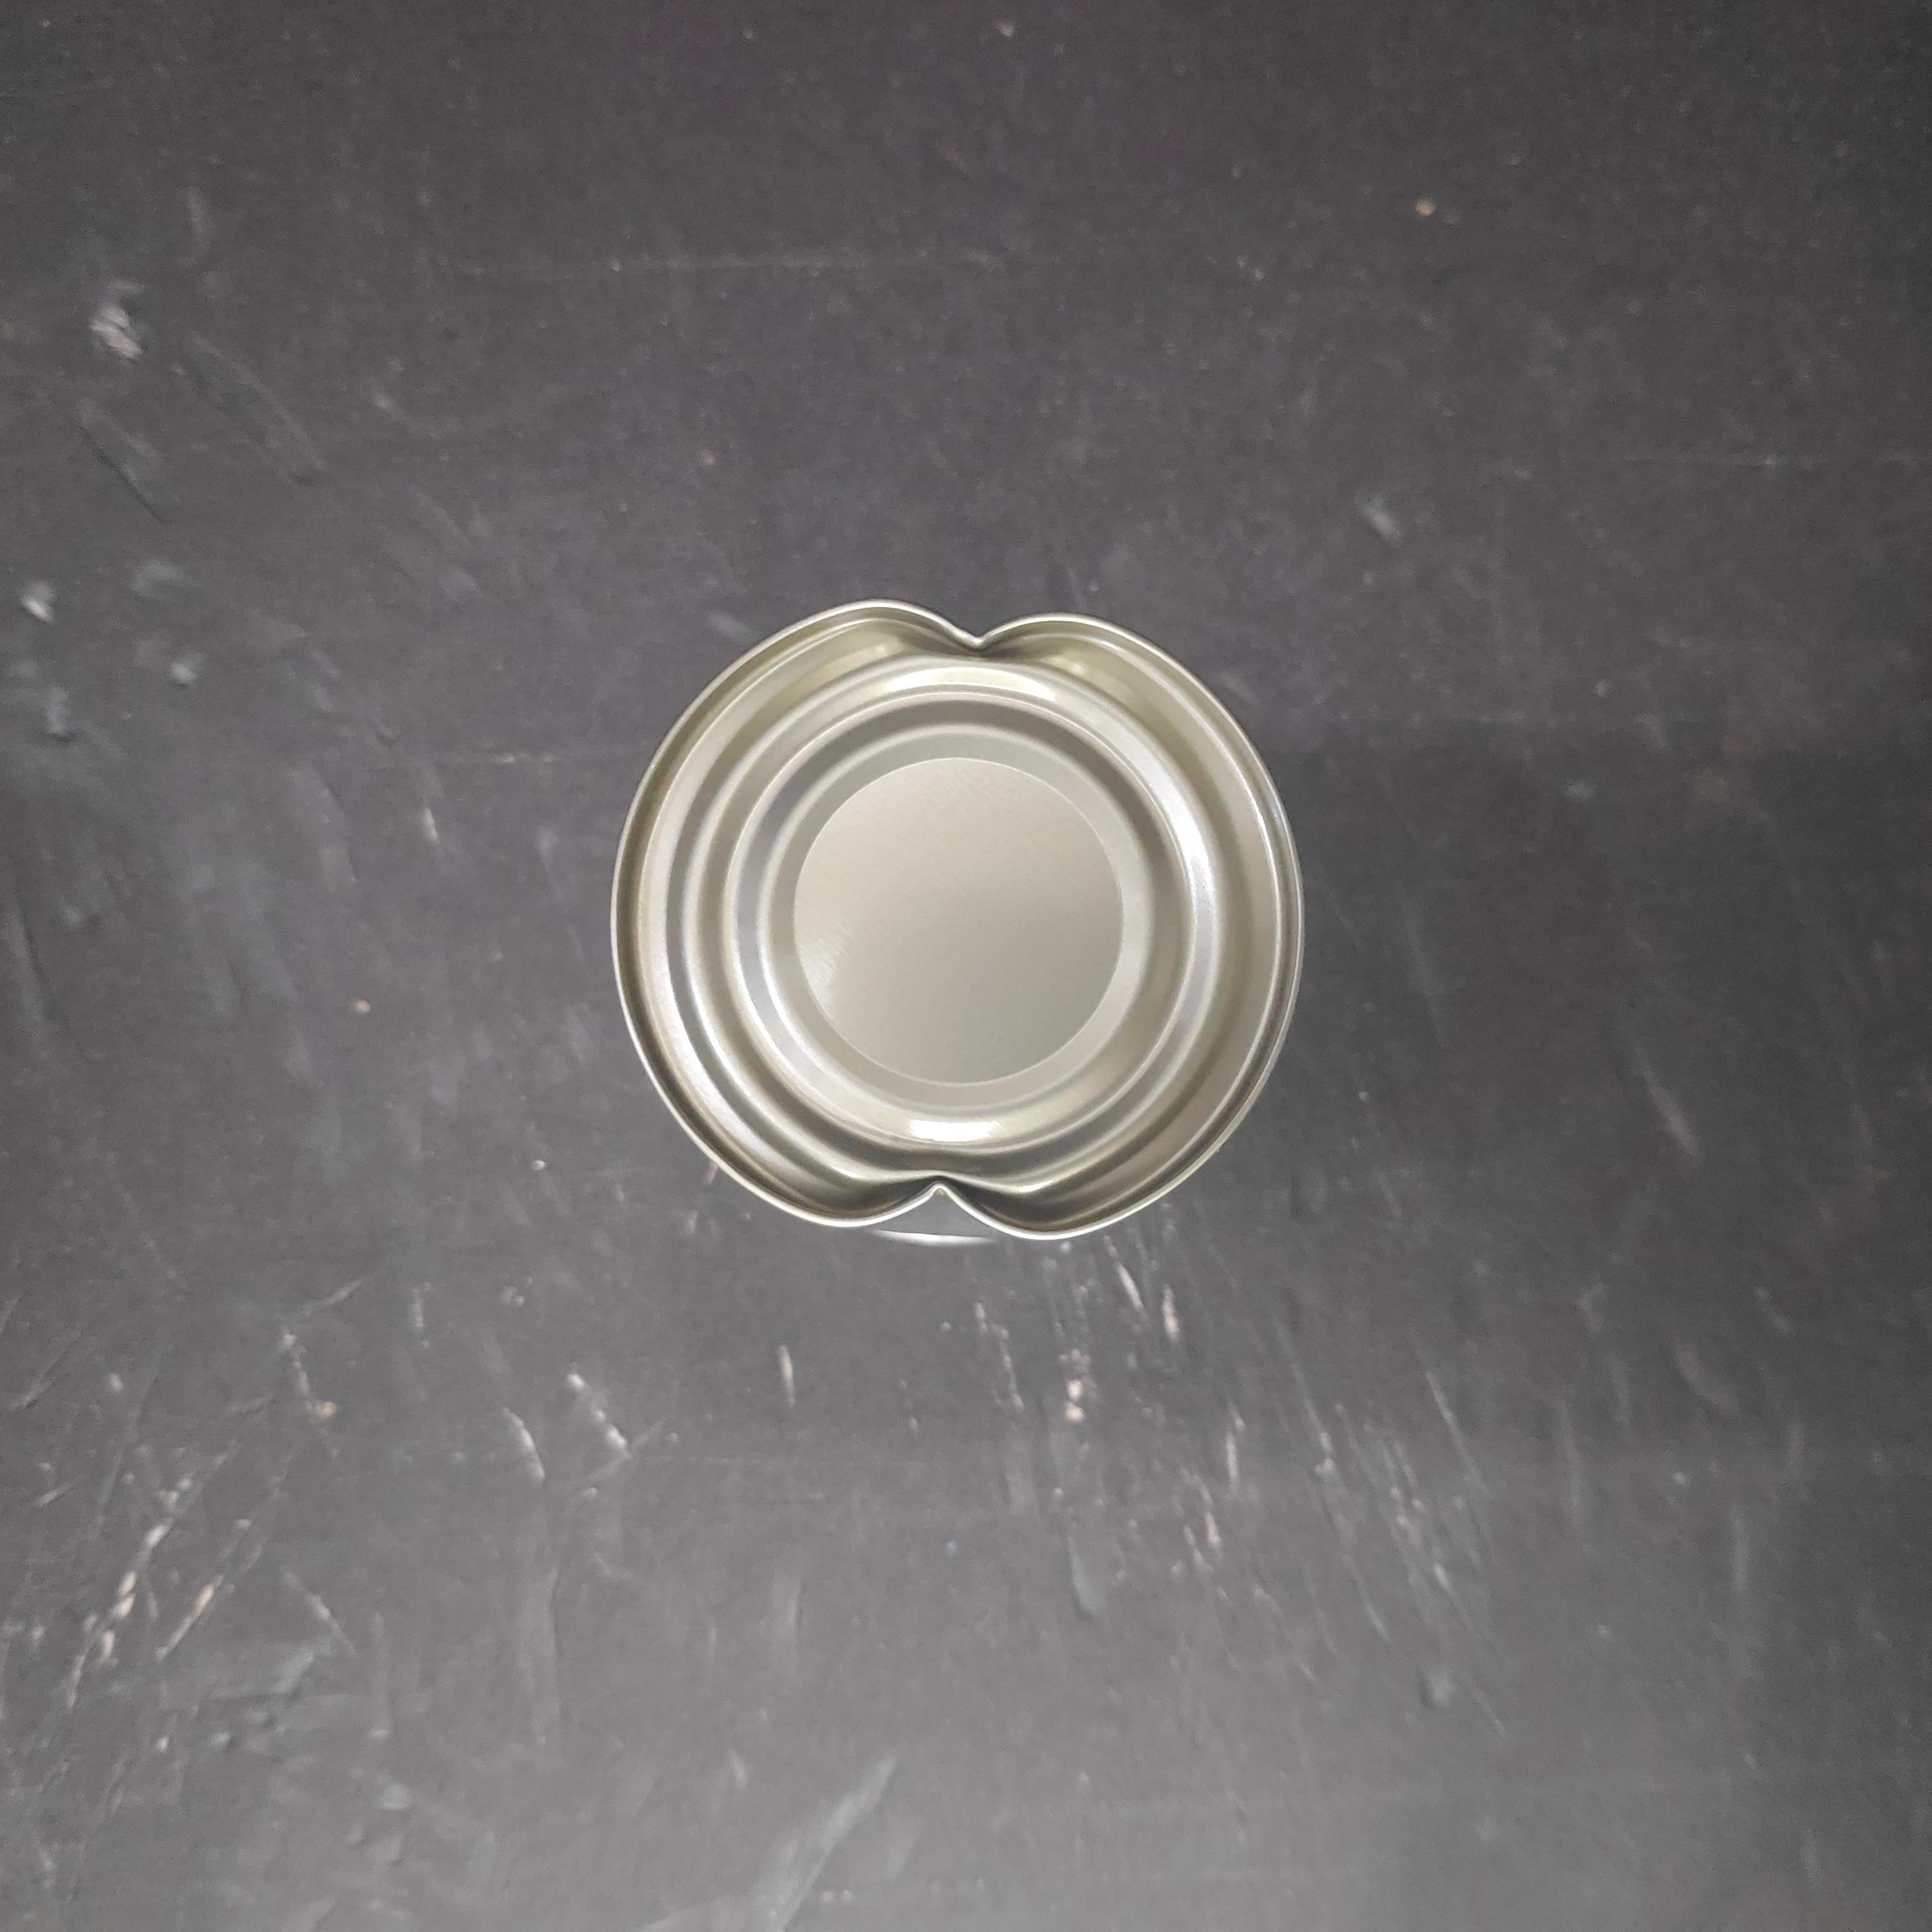Critical Defect: (602, 586, 1315, 1254)
